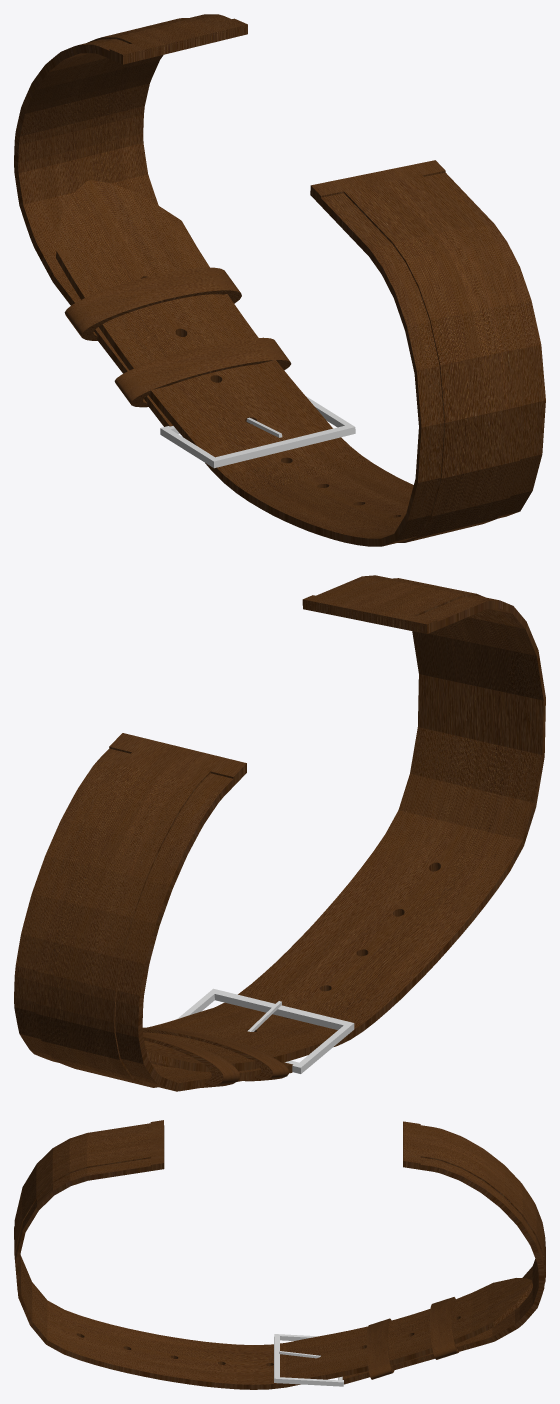
Rendered from BrownLeatherStrap.glb.
3 views of the same model, one above another, from view 1: azimuth 30°, elevation 25°; view 2: azimuth 150°, elevation 25°; view 3: azimuth 270°, elevation 25° (orthographic). The views are drawn at different scales.
Parts seen in each view (by area): view 1: LongStrap.002, ShortConnect.001, Bind1, Bind2, Connector.001; view 2: LongStrap.002, ShortConnect.001, Connector.001, Bind2, Bind1; view 3: LongStrap.002, ShortConnect.001, Bind1, Bind2, Connector.001.
Boxes of the visible parts, x1=… form: LongStrap.002: x1=56, y1=160, x2=545, y2=546; ShortConnect.001: x1=14, y1=14, x2=247, y2=426; Bind1: x1=64, y1=267, x2=241, y2=340; Bind2: x1=114, y1=337, x2=291, y2=407; Connector.001: x1=160, y1=396, x2=355, y2=468; LongStrap.002: x1=144, y1=575, x2=545, y2=1072; ShortConnect.001: x1=14, y1=733, x2=292, y2=1091; Connector.001: x1=177, y1=988, x2=354, y2=1073; Bind2: x1=142, y1=1027, x2=289, y2=1081; Bind1: x1=143, y1=1032, x2=240, y2=1087; LongStrap.002: x1=14, y1=1120, x2=532, y2=1389; ShortConnect.001: x1=342, y1=1121, x2=545, y2=1384; Bind1: x1=429, y1=1297, x2=458, y2=1359; Bind2: x1=366, y1=1318, x2=394, y2=1379; Connector.001: x1=274, y1=1334, x2=343, y2=1386.
Bounding box in the file's own units: 0.9857 × 2.11 × 4.36.
3 materials, 1 textured.
